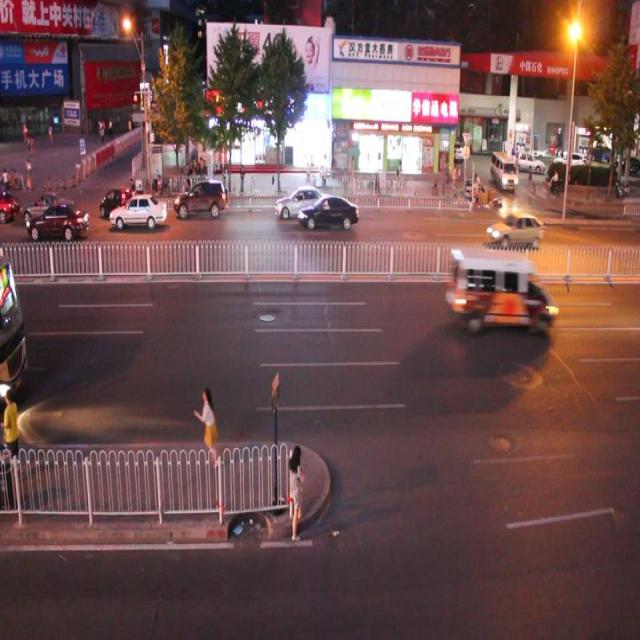car: (26, 200, 91, 242), (297, 193, 359, 234), (485, 207, 543, 250), (20, 188, 77, 228), (109, 192, 167, 231), (274, 183, 331, 222), (173, 178, 226, 219), (101, 180, 145, 223)
truck: (445, 242, 558, 336)
